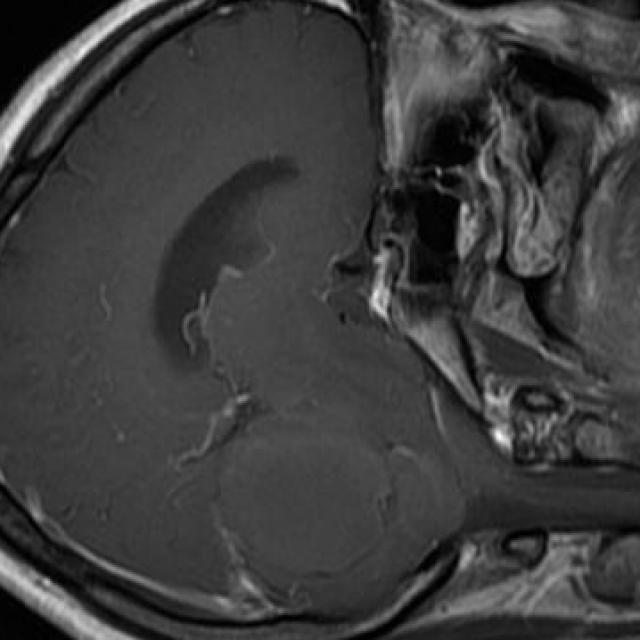glioma: (217, 431, 464, 576)
